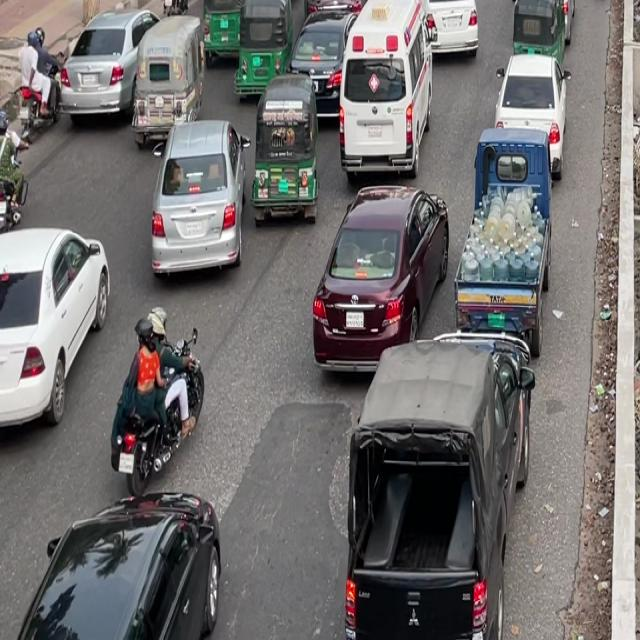bus: (215, 0, 358, 1)
car: (324, 314, 536, 635), (302, 165, 451, 387), (0, 212, 118, 456), (332, 0, 441, 196), (140, 111, 255, 294), (54, 0, 159, 142), (125, 12, 211, 156), (488, 42, 574, 182), (287, 15, 350, 127), (415, 0, 484, 73), (362, 0, 418, 9)
motorbike: (97, 303, 219, 499), (588, 0, 612, 1)
rickshaw: (244, 70, 325, 236), (230, 0, 296, 109), (508, 0, 572, 81), (197, 0, 255, 71)
van: (455, 116, 559, 360)
